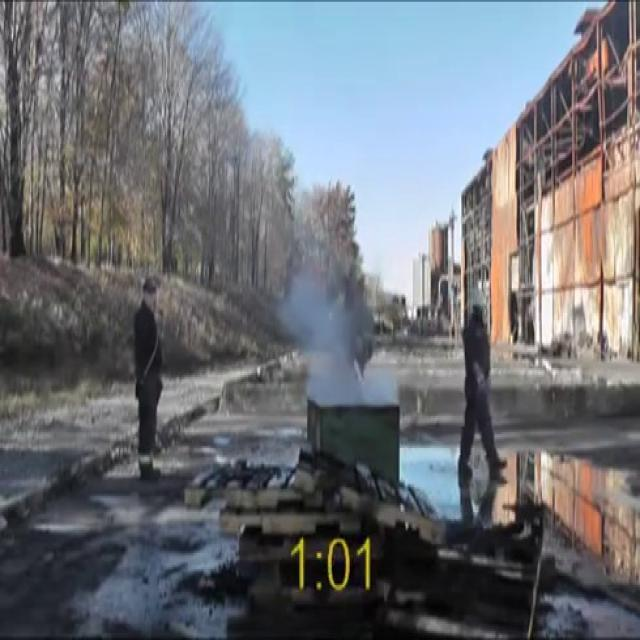Smoke: (274, 258, 374, 410)
